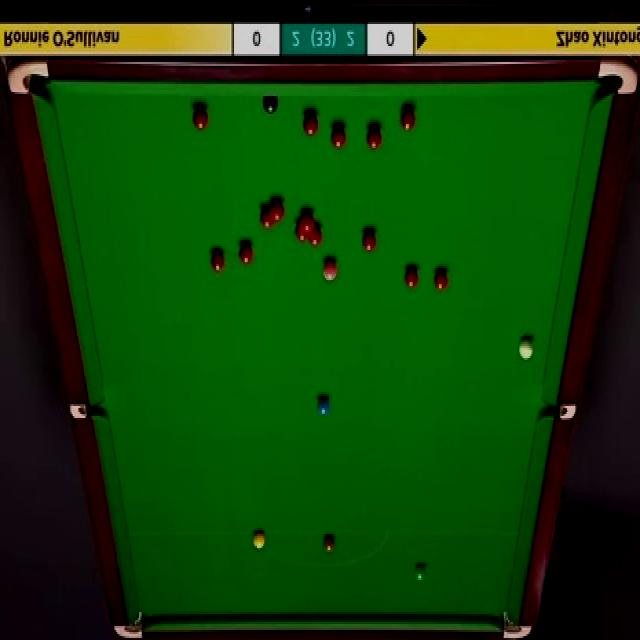black-ball: (262, 98, 278, 114)
blue-ball: (316, 396, 329, 417)
brown-ball: (322, 534, 336, 553)
green-ball: (415, 565, 426, 584)
pink-ball: (321, 263, 336, 287)
red-ball: (330, 123, 347, 149), (237, 242, 254, 267), (192, 107, 209, 132), (300, 206, 315, 234), (268, 198, 284, 224), (302, 112, 318, 138), (432, 268, 448, 294), (306, 224, 323, 248), (400, 107, 415, 133), (362, 230, 377, 254), (259, 207, 274, 230), (210, 250, 225, 272), (404, 268, 420, 288), (367, 128, 382, 149), (296, 219, 309, 242)
white-ball: (519, 337, 533, 360)
yellow-ball: (250, 530, 266, 550)
